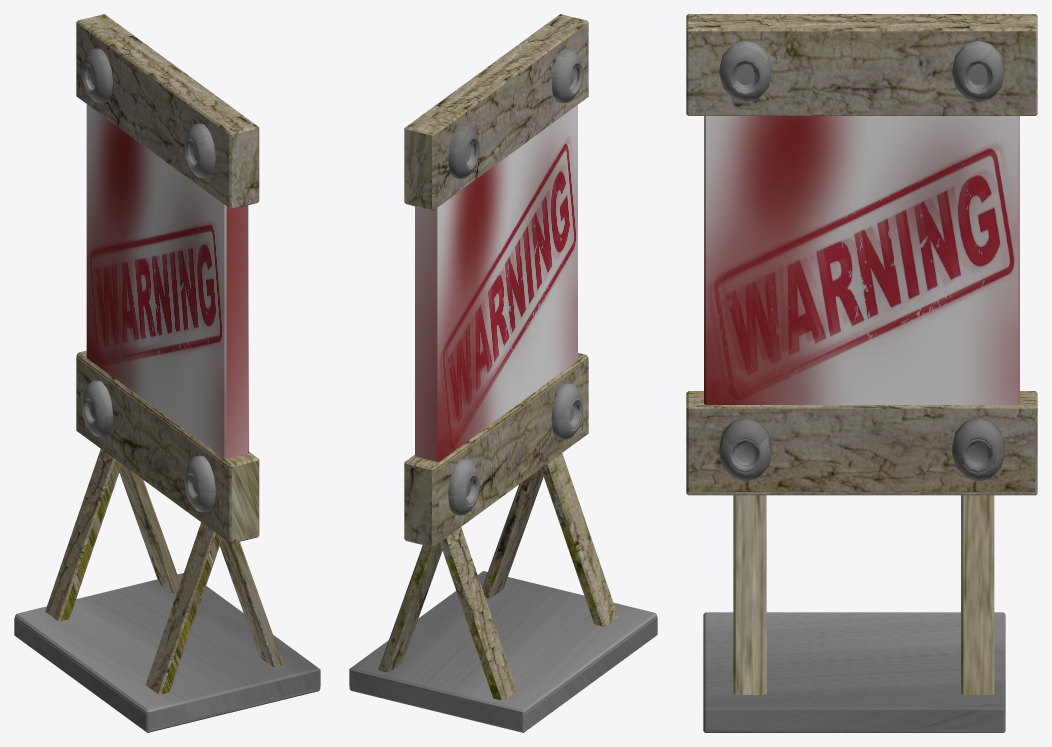
The model's file is bumpers and coin.fbx.
The picture shows the model from 3 angles, left to right: view 1: azimuth 30°, elevation 25°; view 2: azimuth 150°, elevation 25°; view 3: azimuth 270°, elevation 25°; orthographic projection. The views are drawn at different scales.
Parts seen in each view (by area): view 1: Bumper large, bumper tiny; view 2: Bumper large, bumper tiny; view 3: Bumper large, bumper tiny.
Boxes of the visible parts, x1,y1,x2,y2 form: Bumper large: (14, 14, 320, 732); bumper tiny: (15, 350, 320, 729); Bumper large: (349, 14, 657, 732); bumper tiny: (349, 353, 656, 714); Bumper large: (686, 14, 1037, 732); bumper tiny: (686, 391, 1037, 729).
Size of the model in its own units: 298 by 963 by 458.
Materials: 4 (4 with a texture image).
